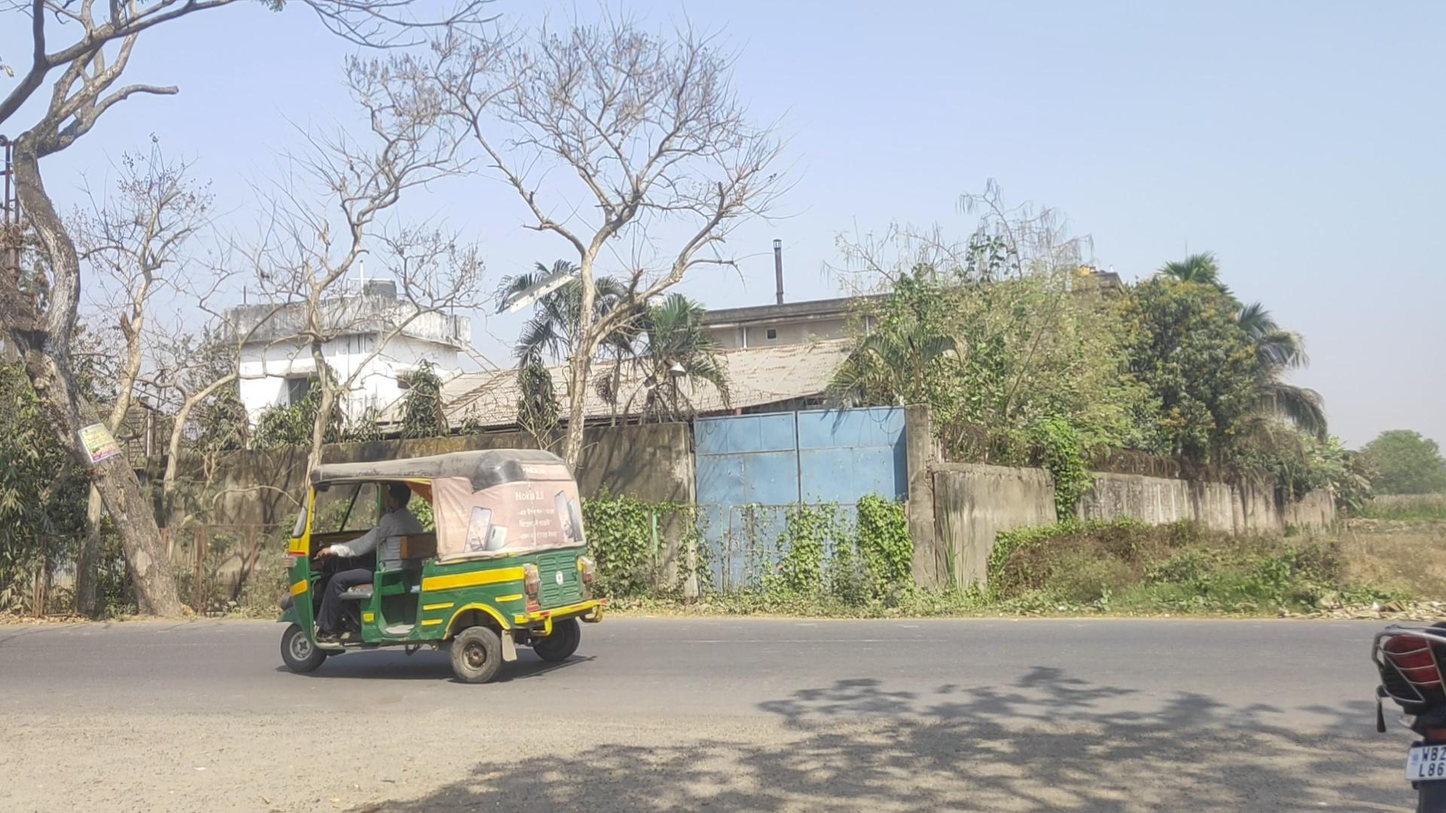Auto: (276, 449, 607, 685)
